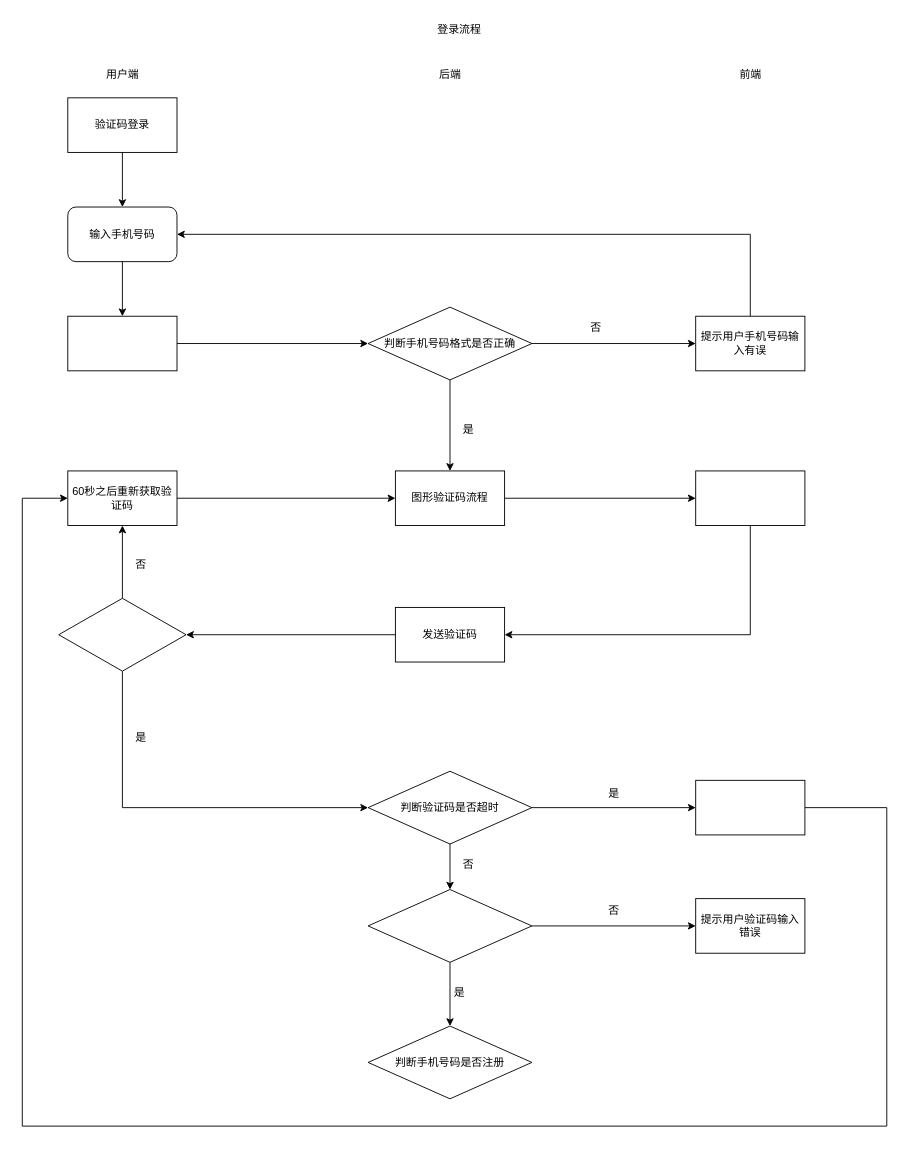
This 910x1149 diagram has some shape labels left out. The shapes that lost their labels are listed below. From the top down, each one's centre as x and y in pixels, then its label:
At [122,343]: "点击获取验证码".
At [750,498]: "输入验证码页面".
At [122,634]: "是否收到验证码".
At [750,807]: "提示用户验证码超时".
At [449,925]: "验证码是否正确".
